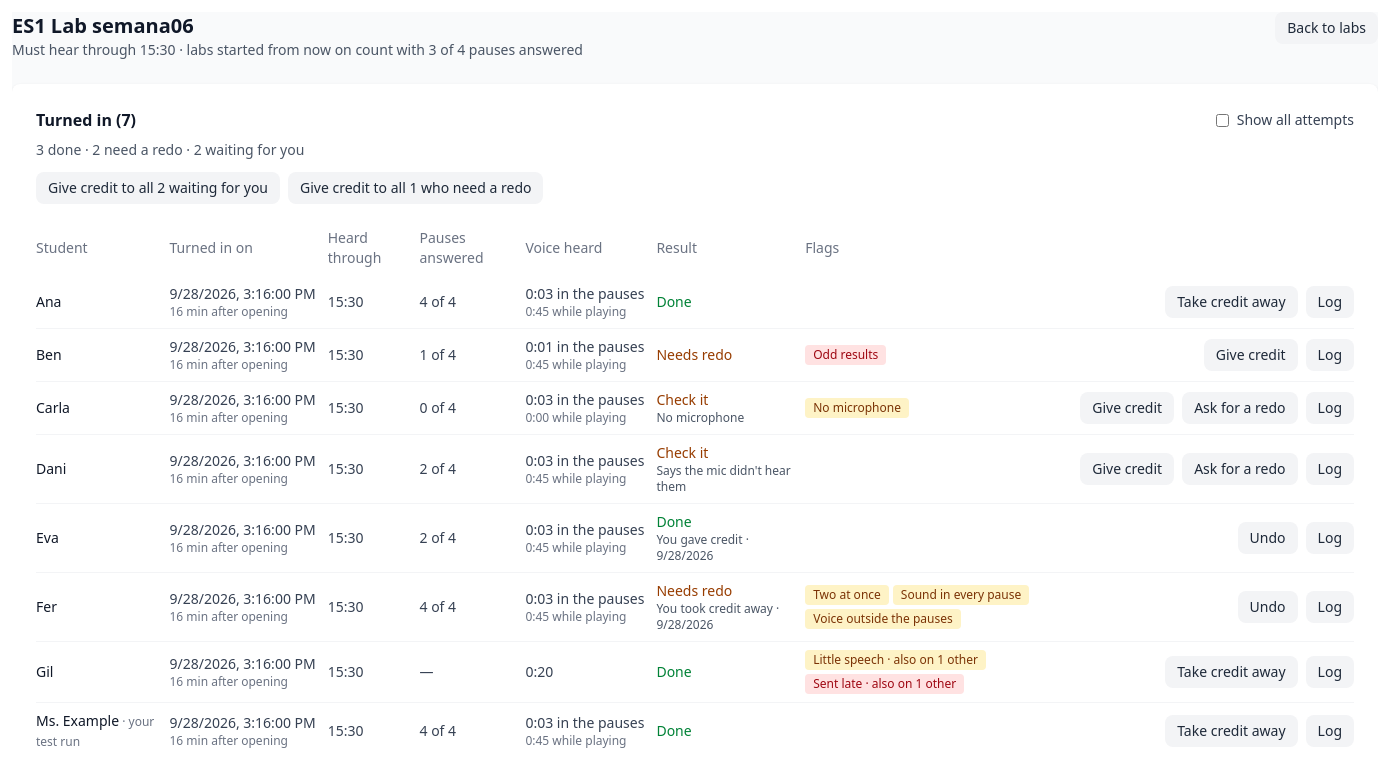
Test: LabReview › keeps showing earlier attempts on request
This screenshot has width=1390, height=765.
Click the checkbox labelled "Show all attempts": click(1222, 120) [1216, 114, 1229, 126]
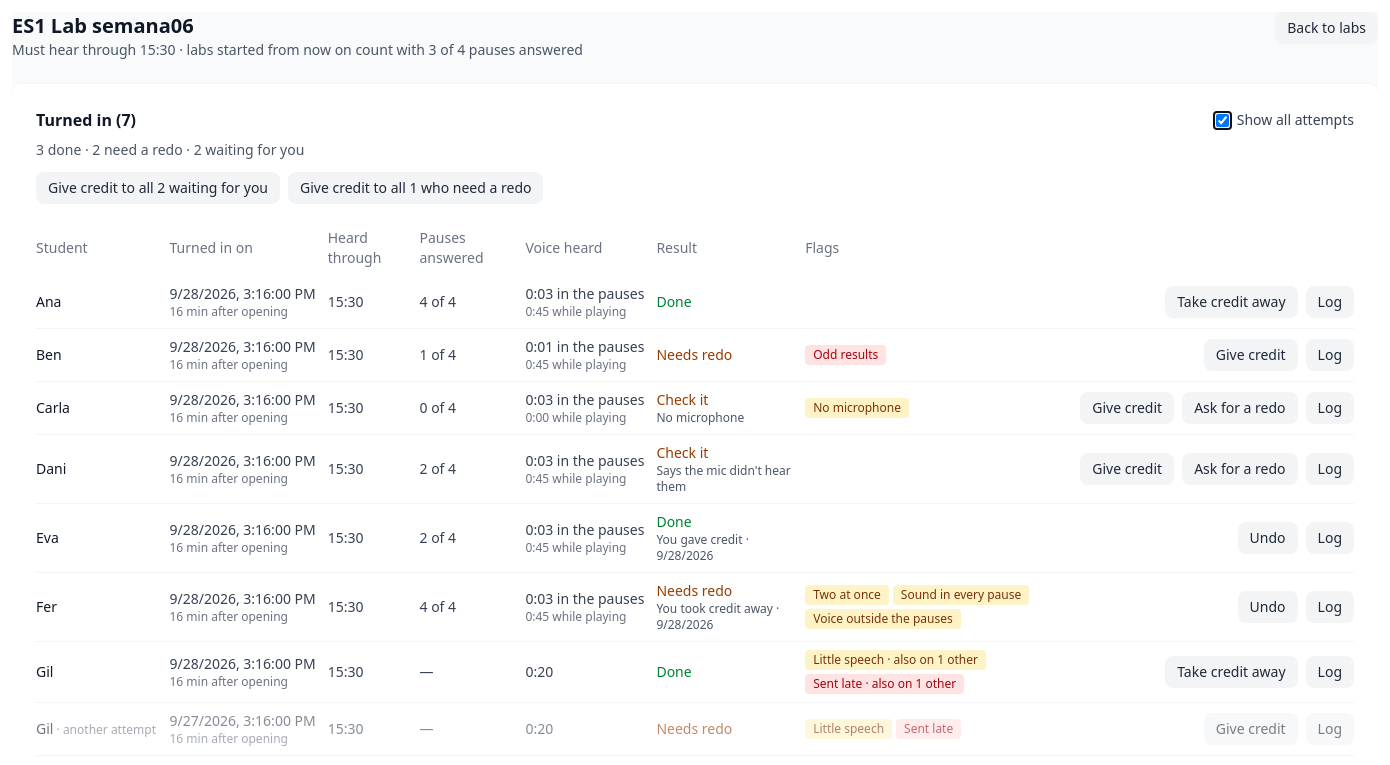
expect the text "· another attempt" is shown: met, box [53, 721, 156, 738]
